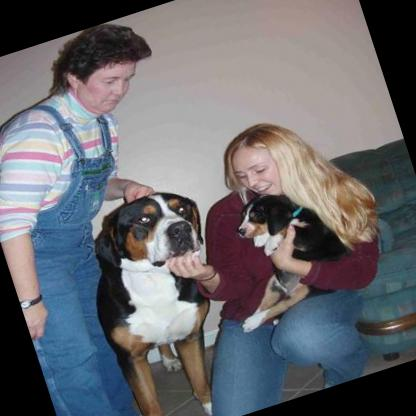Greater_Swiss_Mountain_dog: (65, 180, 262, 416), (198, 173, 367, 338)
